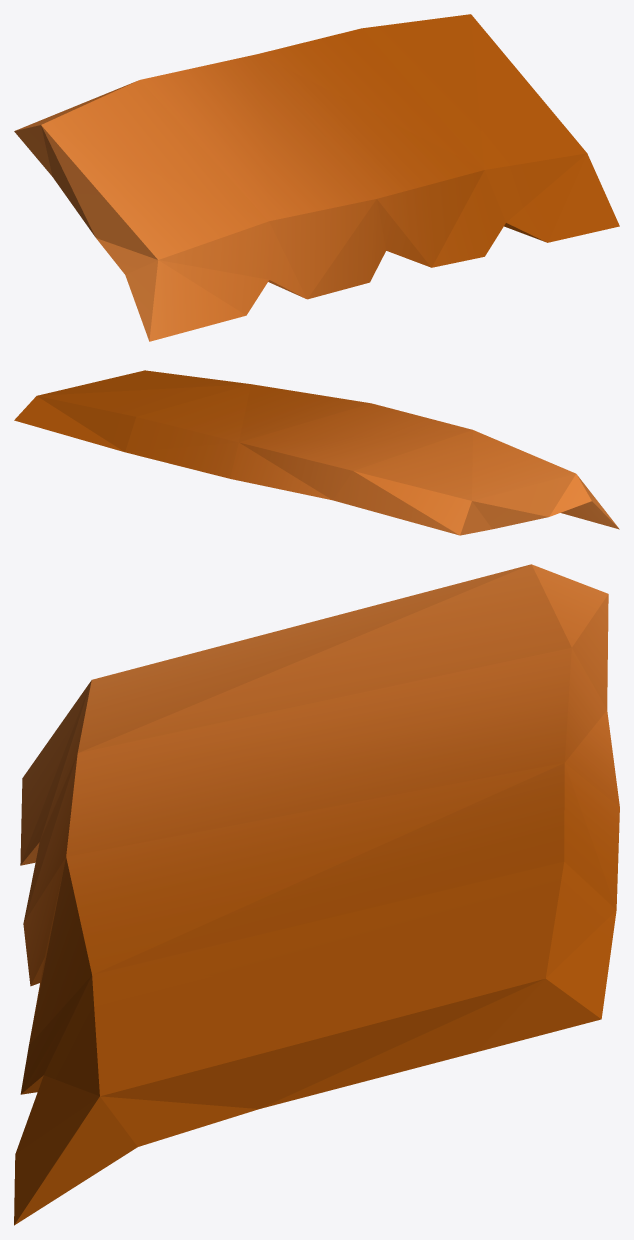
File: MarketStall_Roof_Orange.gltf
3 renders of one model, top to bottom at view 1: azimuth 30°, elevation 25°; view 2: azimuth 150°, elevation 25°; view 3: azimuth 270°, elevation 25°, orthographic. The views are drawn at different scales.
Visible parts, largest first — view 1: MarketStall_Roof_Orange; view 2: MarketStall_Roof_Orange; view 3: MarketStall_Roof_Orange.
Boxes of the visible parts, x1,y1,x2,y2 form: MarketStall_Roof_Orange: [14, 14, 619, 341]; MarketStall_Roof_Orange: [14, 370, 619, 535]; MarketStall_Roof_Orange: [14, 564, 619, 1225].
Bounding box in the file's own units: 3.04 × 0.8 × 1.72.
1 material, 1 textured.
